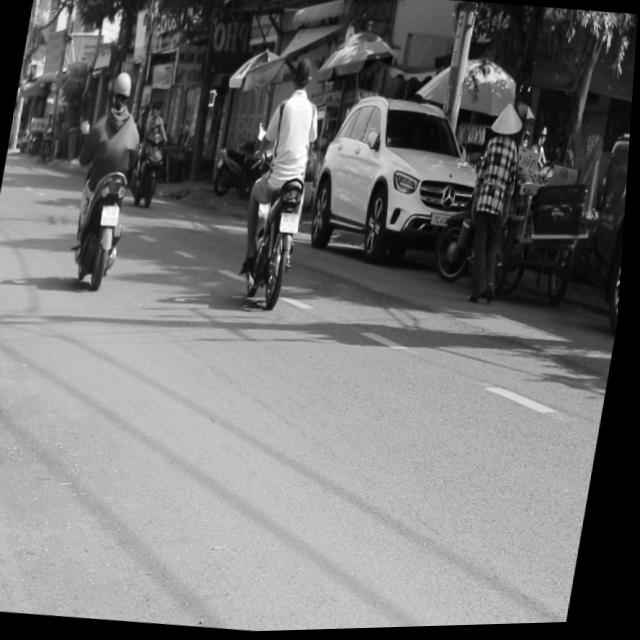helmet: (109, 68, 136, 109)
licenseplate: (232, 51, 334, 310), (62, 64, 154, 292)
motorcyclist: (291, 55, 317, 96)
nohelmet: (281, 212, 304, 234), (102, 203, 123, 226)
